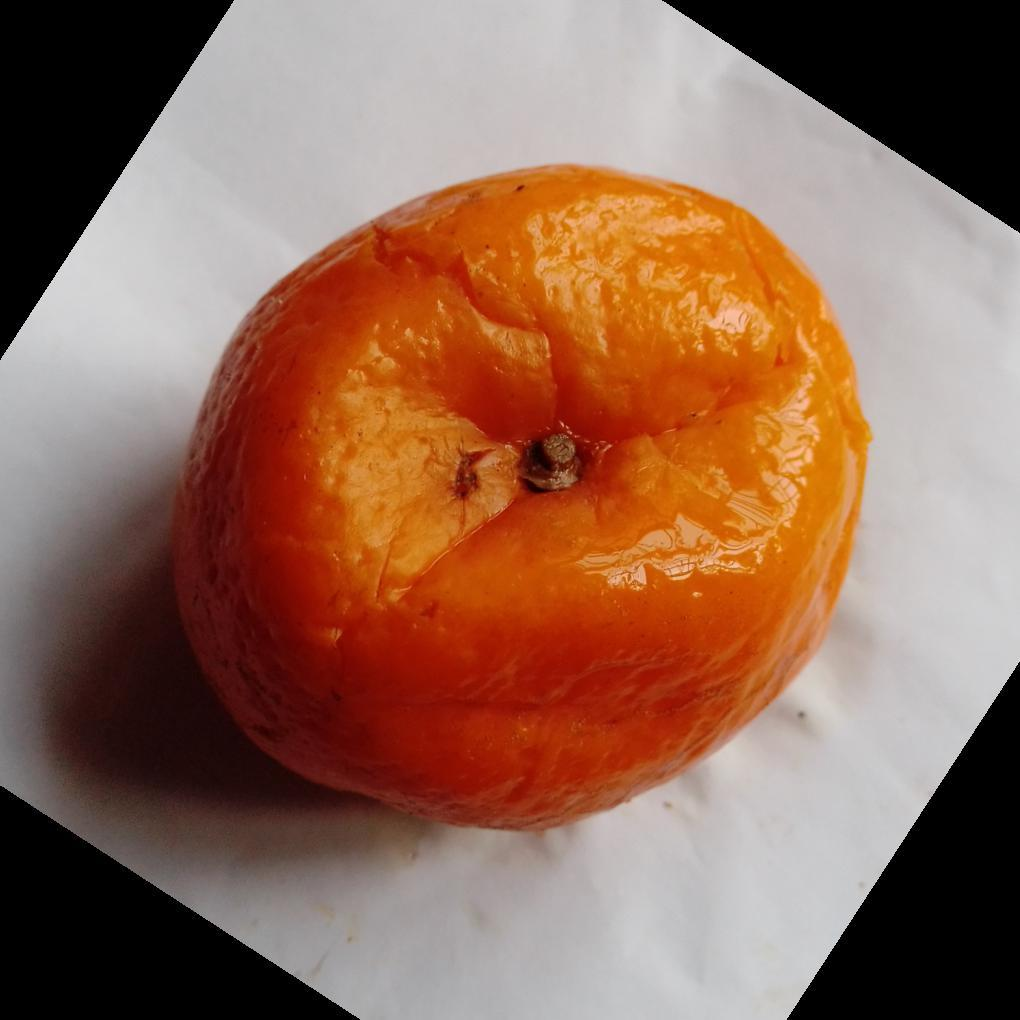FreshOrange: (168, 164, 874, 836)
